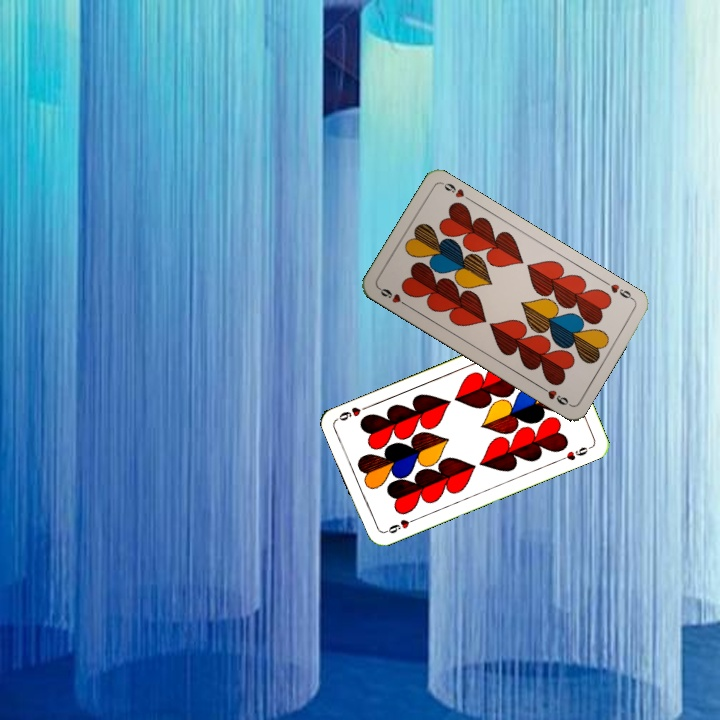H9: (600, 276, 637, 303), (375, 283, 411, 310), (381, 514, 419, 536)
